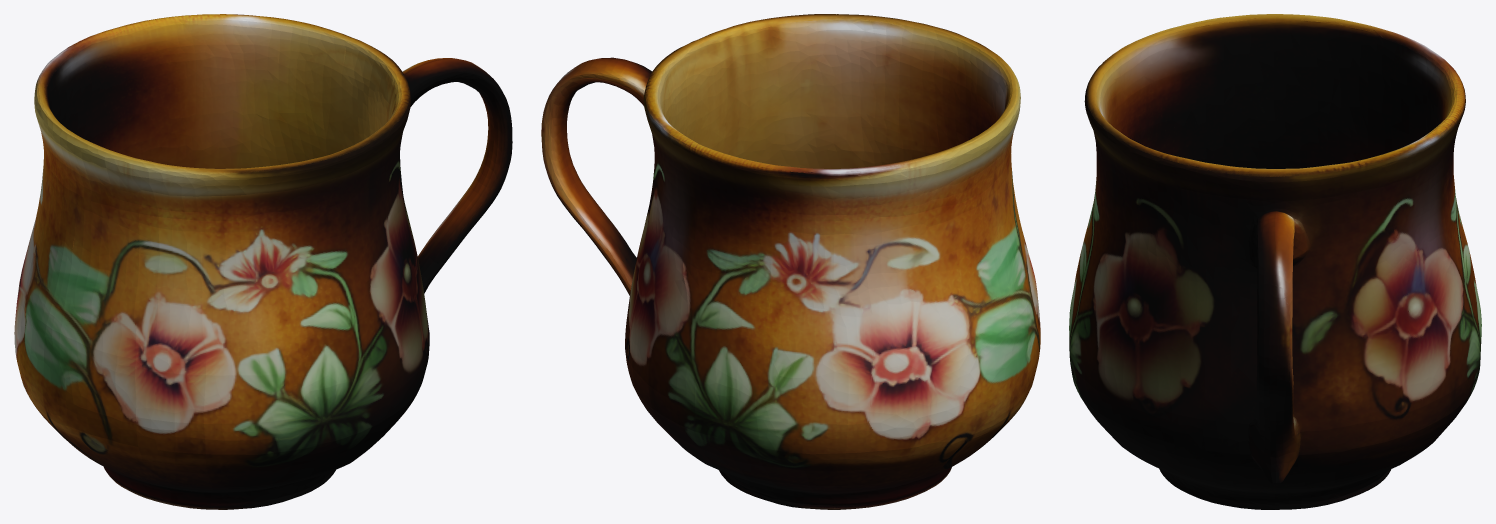
Rendered from ceramic-vintage-mug-japanese.jpeg.glb.
3 renders of one model, left to right at view 1: azimuth 30°, elevation 25°; view 2: azimuth 150°, elevation 25°; view 3: azimuth 270°, elevation 25°, orthographic.
Visible parts, largest first — view 1: world; view 2: world; view 3: world.
Boxes of the visible parts, x1,y1,x2,y2 form: world: (14, 14, 512, 509); world: (541, 14, 1040, 509); world: (1069, 14, 1481, 509).
Size of the model in its own units: 0.9999 by 0.7609 by 0.769.
1 material, 1 textured.
